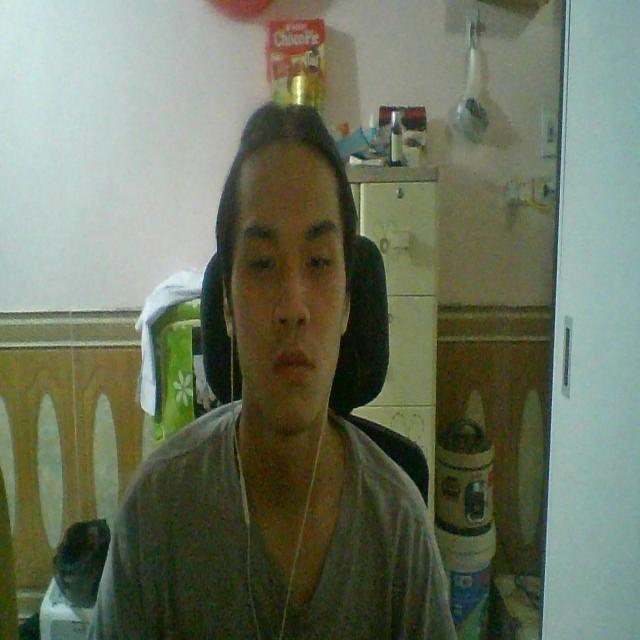Focused: (230, 144, 346, 422)
